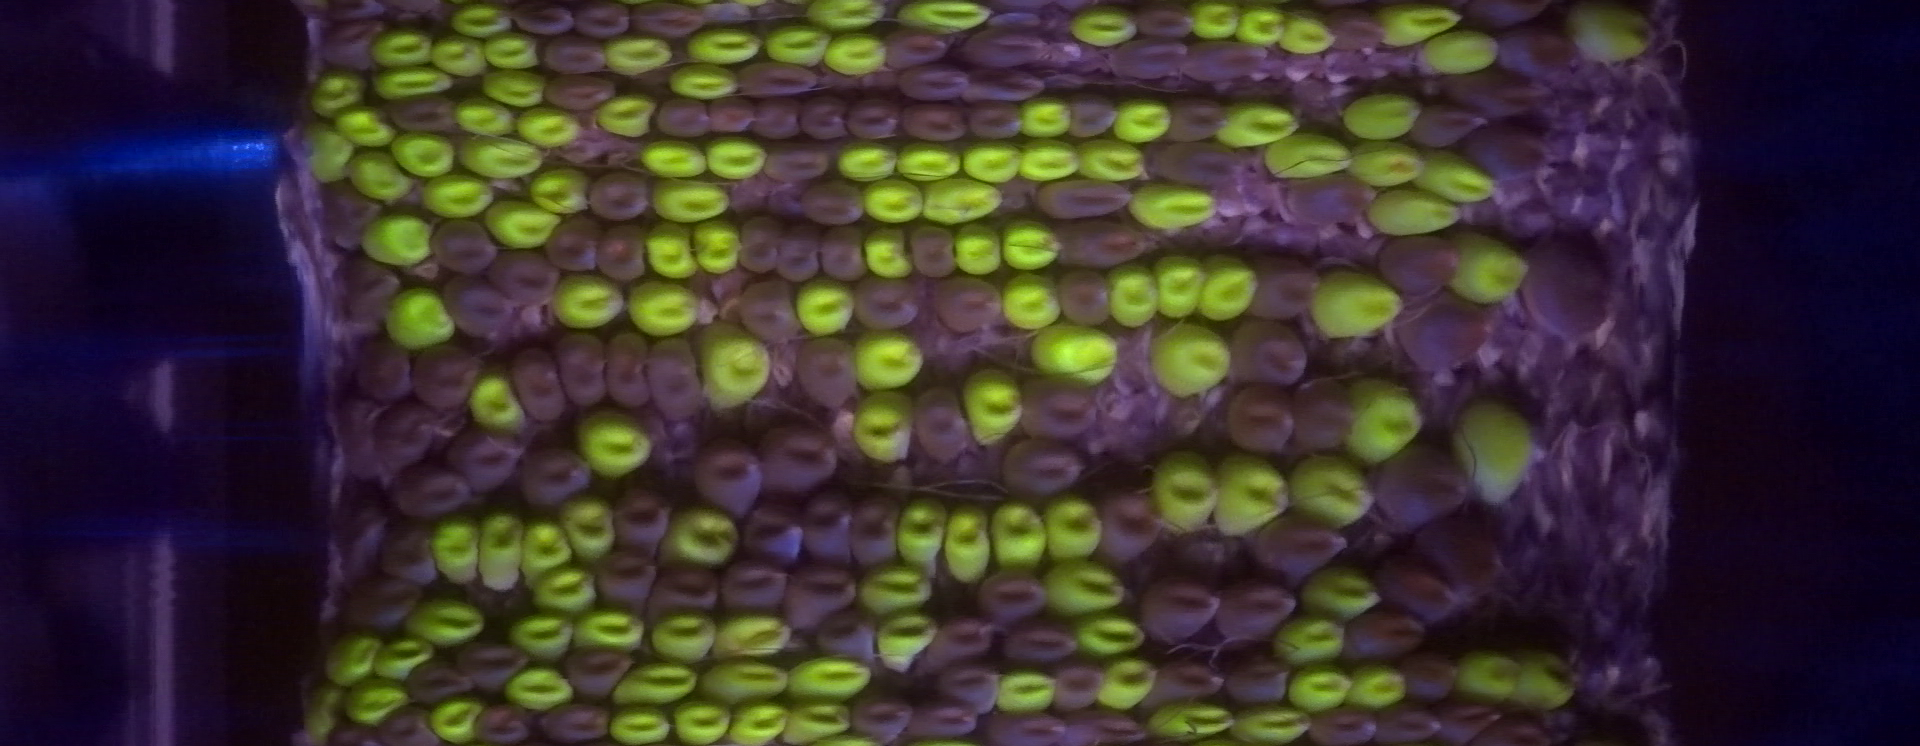fluorescent: (1449, 398, 1534, 510), (1344, 372, 1420, 472), (1212, 451, 1292, 539), (1145, 446, 1221, 537), (698, 322, 771, 415), (1287, 452, 1374, 530), (1150, 323, 1231, 401), (1442, 230, 1524, 305), (656, 505, 747, 571), (1031, 320, 1117, 390), (572, 404, 651, 477), (984, 492, 1049, 579), (1310, 272, 1398, 334), (1569, 2, 1653, 66), (609, 660, 707, 714), (853, 562, 939, 624), (1300, 562, 1387, 622), (1040, 557, 1129, 615), (1044, 490, 1104, 575), (708, 615, 796, 668), (1229, 696, 1321, 746), (1267, 130, 1351, 185), (555, 494, 618, 565), (382, 285, 454, 348), (1198, 252, 1260, 322), (1365, 190, 1458, 236), (784, 657, 877, 703), (465, 367, 530, 434), (700, 657, 789, 704), (399, 595, 485, 644), (644, 606, 713, 668), (853, 330, 923, 390), (1272, 614, 1349, 668), (940, 499, 988, 586), (551, 272, 624, 328), (1222, 100, 1297, 156), (627, 285, 699, 342), (1453, 644, 1520, 706), (1516, 648, 1577, 714), (896, 492, 944, 577), (504, 608, 579, 661), (1070, 612, 1151, 661), (1419, 147, 1494, 200), (520, 518, 574, 590), (478, 510, 522, 598), (1146, 699, 1237, 742), (502, 663, 574, 715), (460, 134, 549, 176), (422, 690, 489, 746), (1343, 135, 1417, 185), (793, 276, 853, 337), (429, 513, 478, 587), (876, 608, 940, 663), (576, 611, 647, 661), (920, 180, 1000, 224), (1093, 657, 1160, 710), (1152, 254, 1207, 316), (1346, 93, 1420, 138), (1131, 190, 1217, 229), (531, 567, 602, 614), (344, 676, 408, 728), (373, 637, 440, 686), (997, 668, 1064, 715), (1378, 6, 1460, 45), (648, 179, 730, 218), (1018, 134, 1080, 185), (481, 205, 560, 245), (323, 628, 383, 681), (365, 218, 432, 265), (640, 227, 698, 281), (779, 703, 851, 746), (1344, 661, 1407, 710), (609, 699, 673, 746), (298, 127, 353, 181), (424, 171, 489, 217), (836, 138, 902, 183), (1111, 265, 1157, 327), (725, 699, 787, 746), (348, 149, 408, 196), (677, 696, 732, 746), (1288, 666, 1349, 710), (1428, 31, 1496, 70), (691, 220, 737, 278), (599, 92, 654, 140), (899, 1, 988, 31), (393, 134, 454, 176), (1004, 223, 1058, 271), (953, 225, 998, 282), (1004, 277, 1060, 322), (1082, 141, 1144, 183), (481, 69, 549, 105), (768, 24, 827, 66), (376, 67, 452, 99), (516, 108, 577, 147), (528, 171, 589, 211), (640, 141, 708, 176), (862, 232, 916, 276), (307, 680, 345, 742), (602, 38, 669, 73), (310, 73, 366, 115), (1021, 97, 1078, 138), (827, 33, 884, 73), (375, 29, 436, 67), (1281, 13, 1333, 58), (895, 143, 960, 179), (705, 138, 764, 176), (691, 28, 756, 62), (430, 36, 485, 75), (864, 183, 922, 219), (1069, 13, 1136, 44), (332, 107, 391, 141), (808, 1, 879, 29), (667, 69, 738, 97), (1116, 100, 1163, 142), (458, 96, 509, 134), (965, 143, 1019, 179), (451, 1, 507, 34), (1191, 4, 1239, 38), (489, 36, 538, 67), (1237, 9, 1281, 40)
nonfluorescent: (1524, 240, 1610, 341), (1398, 295, 1488, 370), (1381, 447, 1473, 519), (1215, 575, 1294, 643), (1420, 521, 1501, 588), (1000, 441, 1090, 499), (1253, 519, 1349, 572), (1139, 577, 1217, 642), (757, 425, 838, 488), (1232, 320, 1307, 387), (371, 405, 437, 481), (1376, 559, 1460, 619), (1280, 171, 1368, 225), (1291, 379, 1353, 454), (436, 272, 513, 333), (411, 342, 478, 413), (1251, 251, 1320, 318), (733, 500, 806, 563), (1018, 385, 1102, 439), (693, 442, 760, 510), (451, 430, 524, 491), (1100, 492, 1164, 559), (1224, 387, 1294, 448), (1058, 219, 1147, 267), (1385, 234, 1456, 294), (513, 349, 567, 428), (851, 281, 934, 330), (849, 495, 902, 570), (317, 183, 373, 254), (524, 447, 595, 503), (800, 334, 853, 408), (720, 562, 790, 619), (1346, 611, 1431, 657), (1149, 142, 1240, 184), (596, 551, 654, 617), (936, 281, 1005, 334), (913, 390, 967, 459), (649, 339, 697, 418), (1504, 29, 1580, 78), (1036, 178, 1130, 217), (612, 486, 669, 551), (795, 492, 846, 563), (744, 278, 800, 344), (1460, 71, 1547, 113), (1472, 122, 1536, 179), (1063, 709, 1160, 746), (1149, 657, 1228, 701), (340, 256, 393, 321), (354, 341, 410, 401), (604, 330, 648, 405), (1188, 43, 1272, 82), (1416, 102, 1484, 149), (587, 168, 650, 219), (654, 565, 719, 615), (349, 581, 422, 625), (563, 330, 604, 409), (970, 26, 1044, 69), (795, 180, 869, 223), (561, 644, 624, 695), (967, 64, 1051, 102), (1376, 699, 1442, 746), (337, 500, 376, 577), (791, 565, 850, 616), (431, 219, 496, 266), (502, 247, 552, 307), (1109, 40, 1190, 77), (1056, 271, 1109, 326), (986, 577, 1049, 624), (817, 611, 872, 664), (632, 1, 708, 39), (383, 522, 432, 581), (842, 96, 902, 142), (396, 475, 469, 513), (1007, 625, 1078, 664), (544, 702, 605, 746), (322, 20, 380, 66), (735, 214, 778, 277), (820, 224, 866, 283), (894, 65, 969, 100), (594, 228, 643, 282), (738, 62, 818, 96), (934, 620, 989, 668), (991, 710, 1064, 746), (509, 1, 576, 40), (408, 663, 462, 710), (460, 646, 520, 688), (542, 73, 617, 108), (965, 100, 1026, 142), (1438, 699, 1491, 746), (940, 670, 1000, 712), (1404, 653, 1460, 698), (902, 103, 966, 142), (763, 145, 828, 183), (855, 695, 909, 740), (1329, 9, 1384, 53), (389, 97, 456, 134), (913, 227, 958, 282), (780, 224, 820, 284), (1229, 663, 1286, 706), (1463, 1, 1548, 29), (476, 702, 530, 746), (340, 402, 370, 481), (1172, 96, 1224, 140), (1315, 706, 1378, 742), (573, 1, 633, 39), (552, 217, 593, 273), (751, 93, 801, 138), (1065, 96, 1117, 140), (1138, 2, 1194, 42), (544, 37, 610, 70), (658, 94, 711, 135), (1493, 710, 1554, 746), (888, 28, 947, 64), (800, 96, 842, 143), (380, 706, 429, 746), (1057, 665, 1104, 706), (920, 706, 980, 737), (710, 96, 754, 137), (316, 1, 386, 24), (329, 722, 375, 746)
